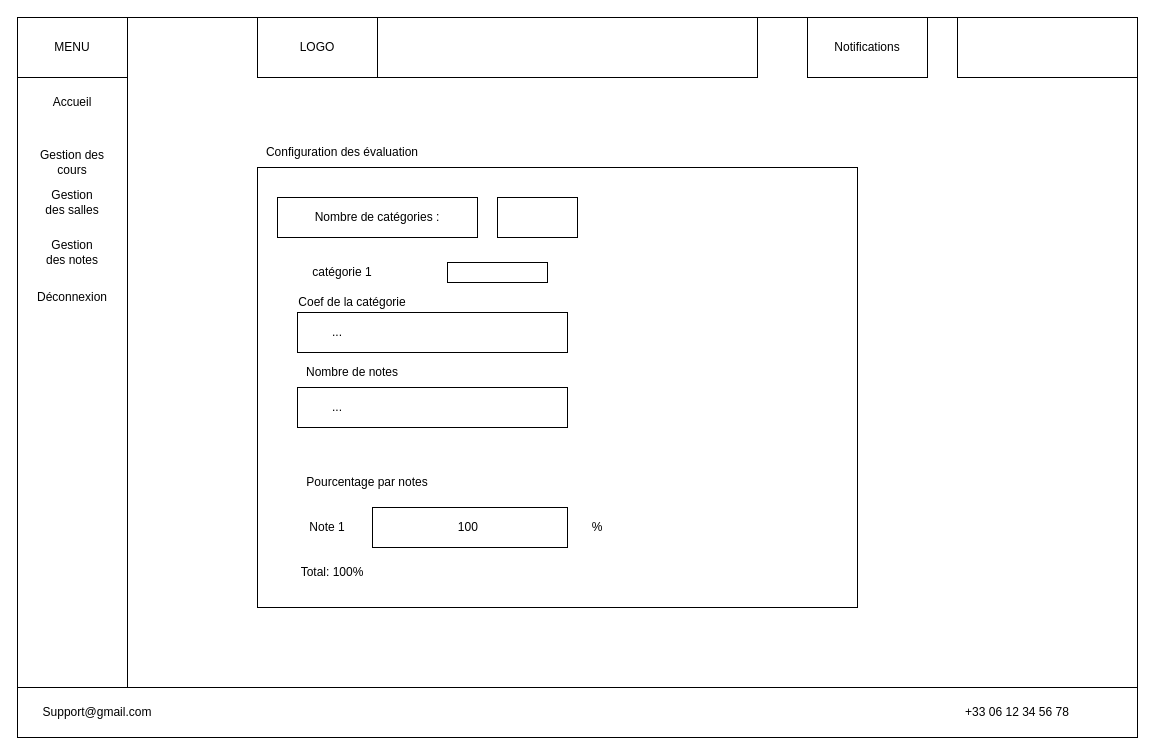
Image size: 1155x755. Some labels were removed from this diagram. Each missing label, with the centre of its shape:
Controle continue: (497,272)
Nom de l'utilisateur: (1047,47)
Nom du site: (567,47)
Selection des catégories: (537,217)
